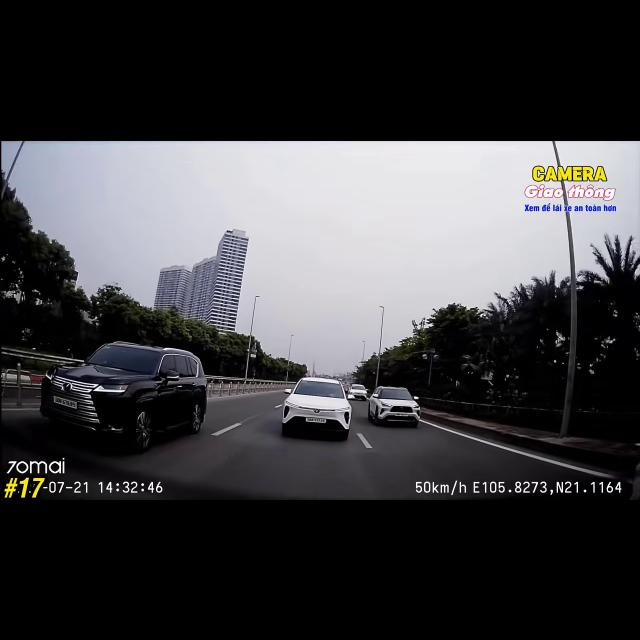car: (40, 342, 206, 452), (282, 378, 352, 439), (368, 387, 420, 426), (349, 384, 367, 400), (342, 383, 350, 394)
